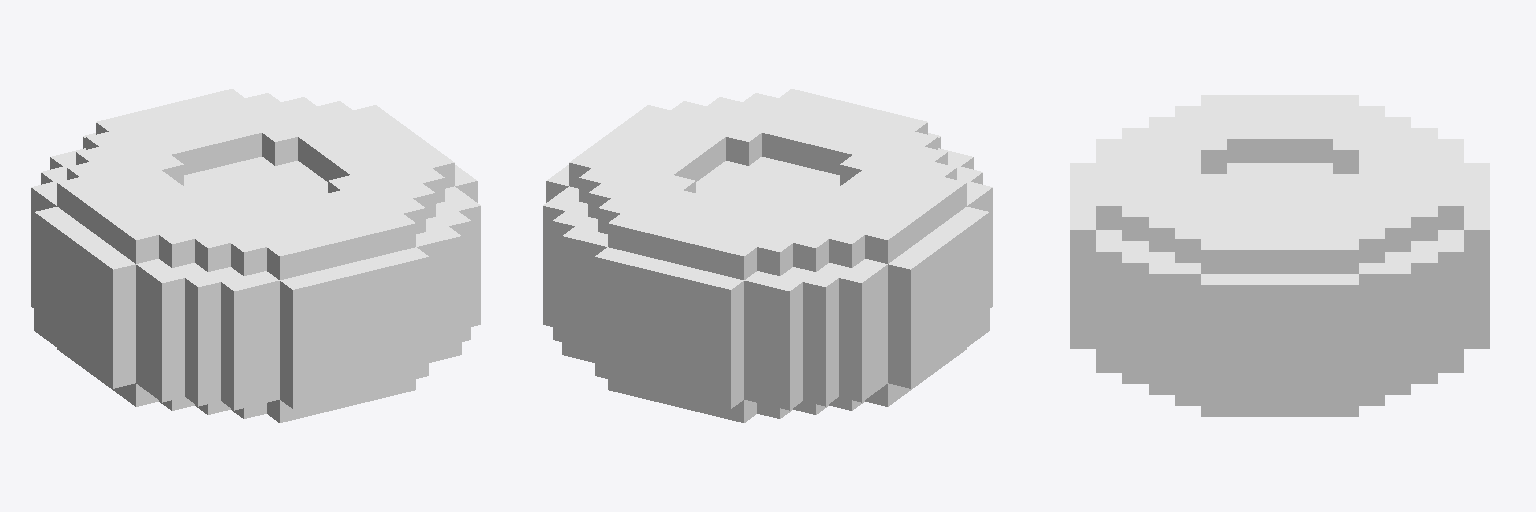
The model's file is blue_disc.obj.
The picture shows the model from 3 angles: view 1: azimuth 30°, elevation 25°; view 2: azimuth 150°, elevation 25°; view 3: azimuth 270°, elevation 25°; orthographic projection.
Visible parts, largest first — view 1: blue_disc; view 2: blue_disc; view 3: blue_disc.
Part boxes in pixels (x1,y1,x2,y2): blue_disc: (31,89,480,422); blue_disc: (543,89,992,422); blue_disc: (1070,95,1489,416).
Size of the model in its own units: 1.6 by 0.7 by 1.6.